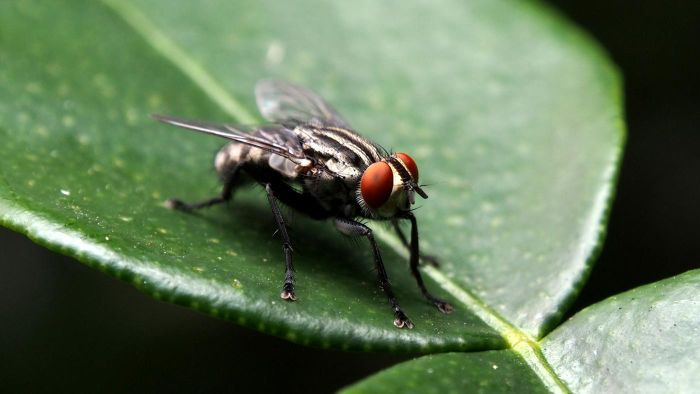fly: (140, 71, 458, 331)
